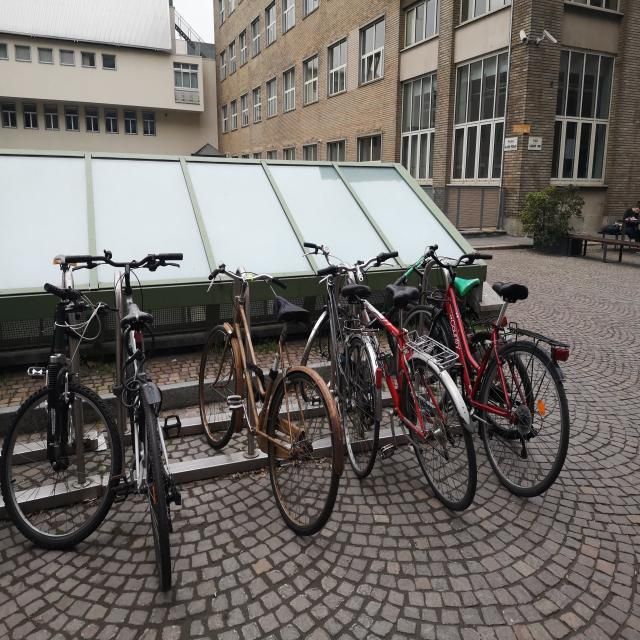Bicycle: (404, 192, 569, 530), (204, 216, 341, 566), (0, 229, 115, 640), (75, 222, 198, 583), (348, 232, 474, 538), (316, 235, 390, 460)
